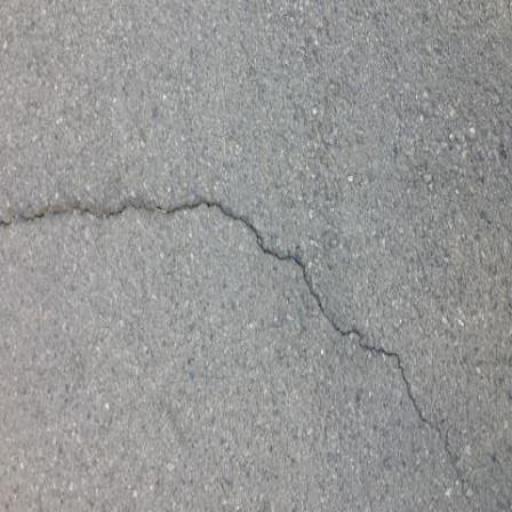spalling: (10, 171, 490, 504)
